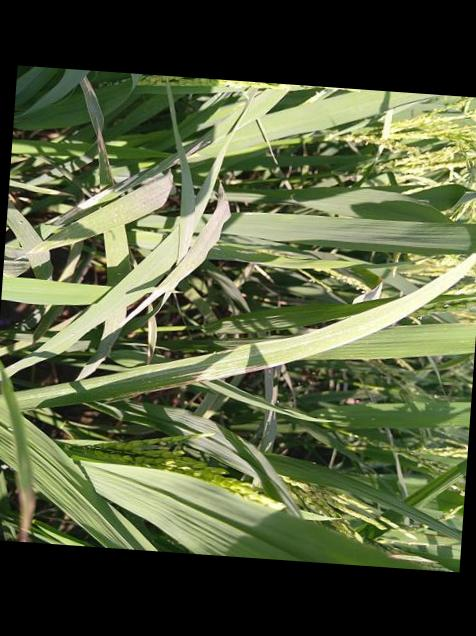Leaf Blight: (4, 384, 37, 542)
Leaf Streak: (100, 311, 366, 401), (43, 154, 175, 234), (80, 172, 172, 229), (76, 74, 110, 185), (63, 363, 169, 391), (6, 198, 42, 250), (3, 244, 27, 276), (25, 250, 48, 277)
